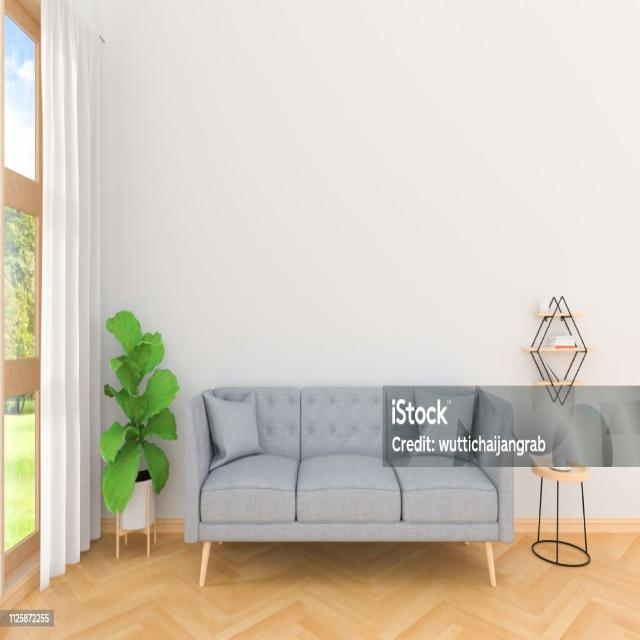back_cushion: (204, 388, 475, 469)
base: (206, 521, 498, 542)
left_arm: (482, 462, 513, 541), (476, 392, 512, 434)
legs: (483, 542, 496, 586), (199, 542, 211, 586)
right_arm: (184, 395, 212, 541)
seat_cushion: (201, 454, 498, 523)
stallion-sofa: (184, 386, 513, 585)
